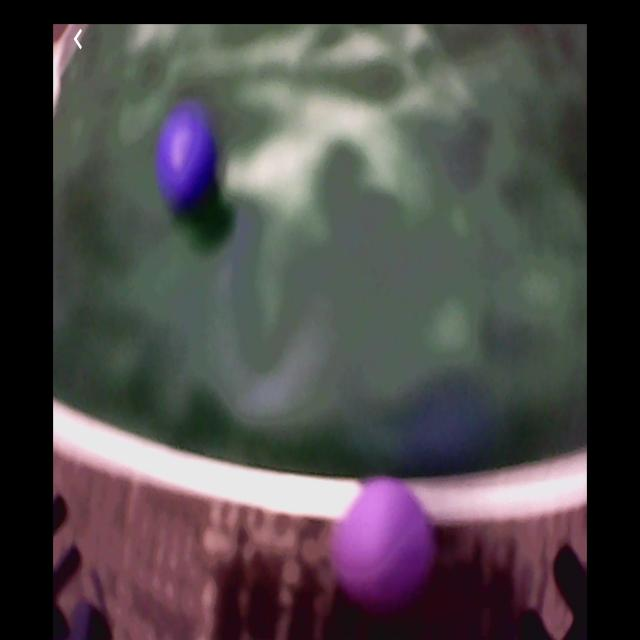ball: (335, 473, 435, 612), (156, 103, 217, 217)
